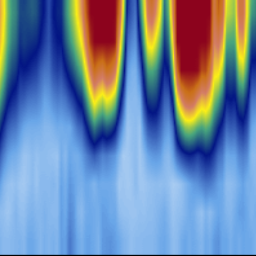defect: (52, 1, 129, 156), (166, 1, 225, 168), (1, 2, 46, 154), (136, 1, 165, 139), (229, 2, 253, 141)
